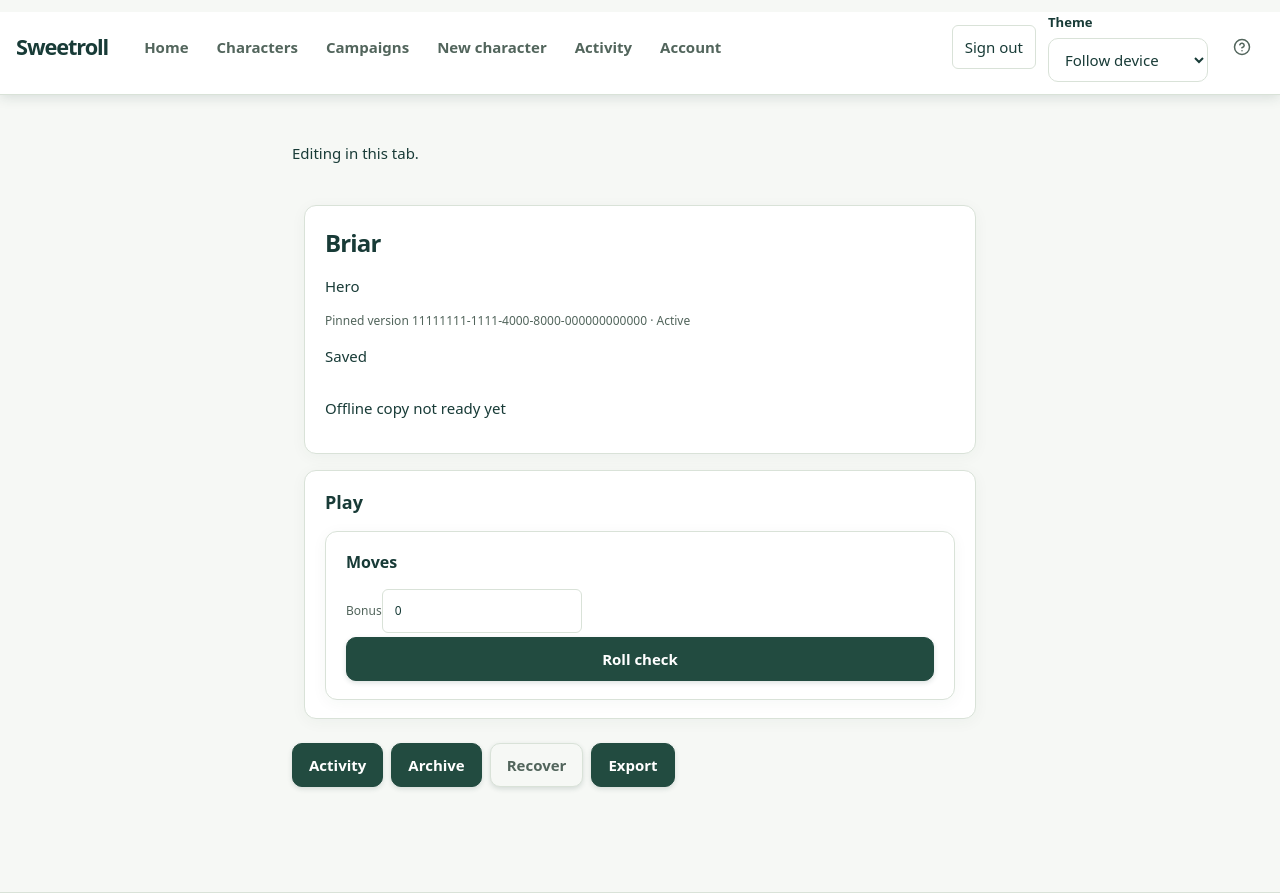
Scenario: character routes › exposes actions, tools, ownership and roll results through the real router composition
Expected: the heading "Briar" is shown, [325,226,380,259]
Expected: the text "Editing in this tab." is shown, [292,143,419,163]
Step 1. Click the button "Roll check" → x=640, y=659, box [346,637,934,681]
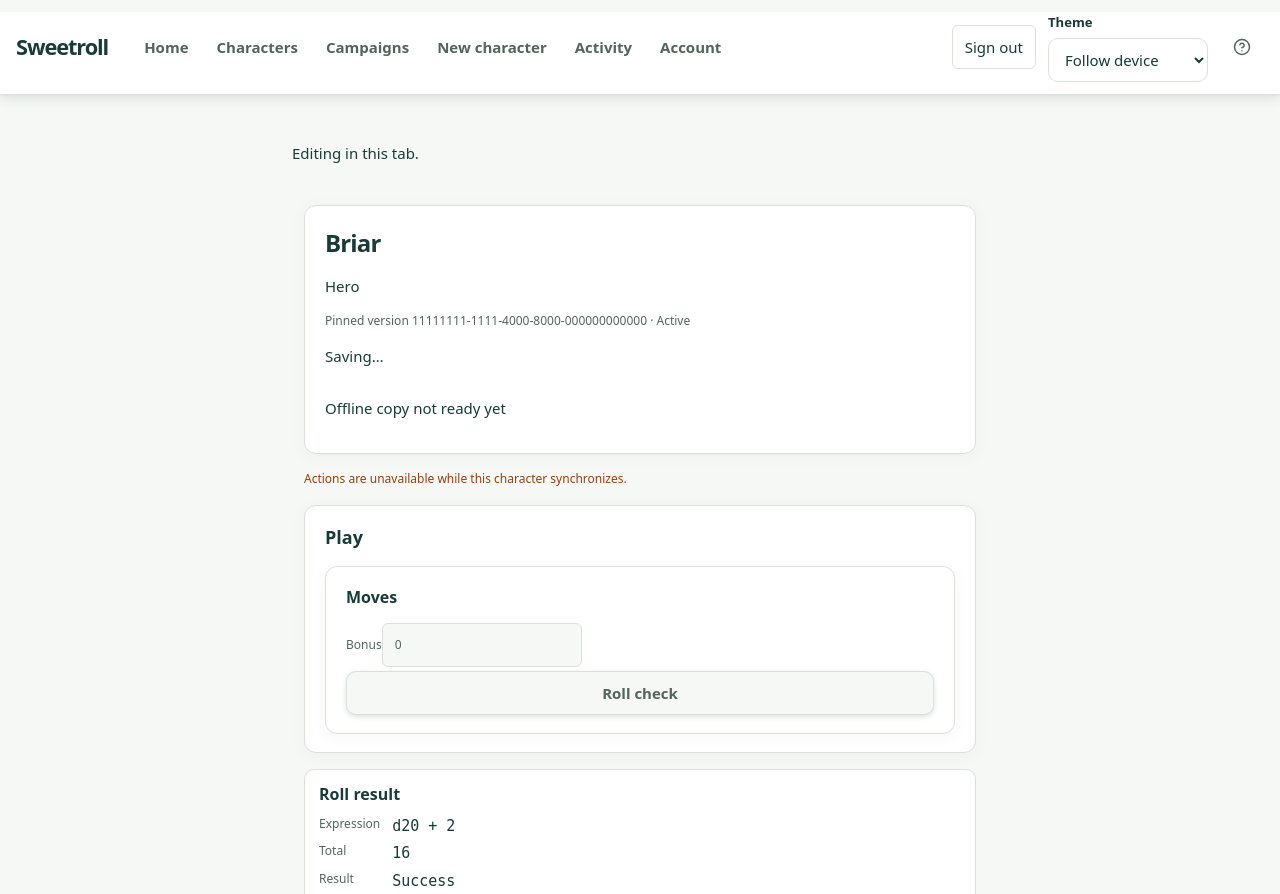
Expected: the heading "Roll result" is shown, [319,783,400,805]
Expected: the text "d20 + 2" is shown, [392,817,455,835]
